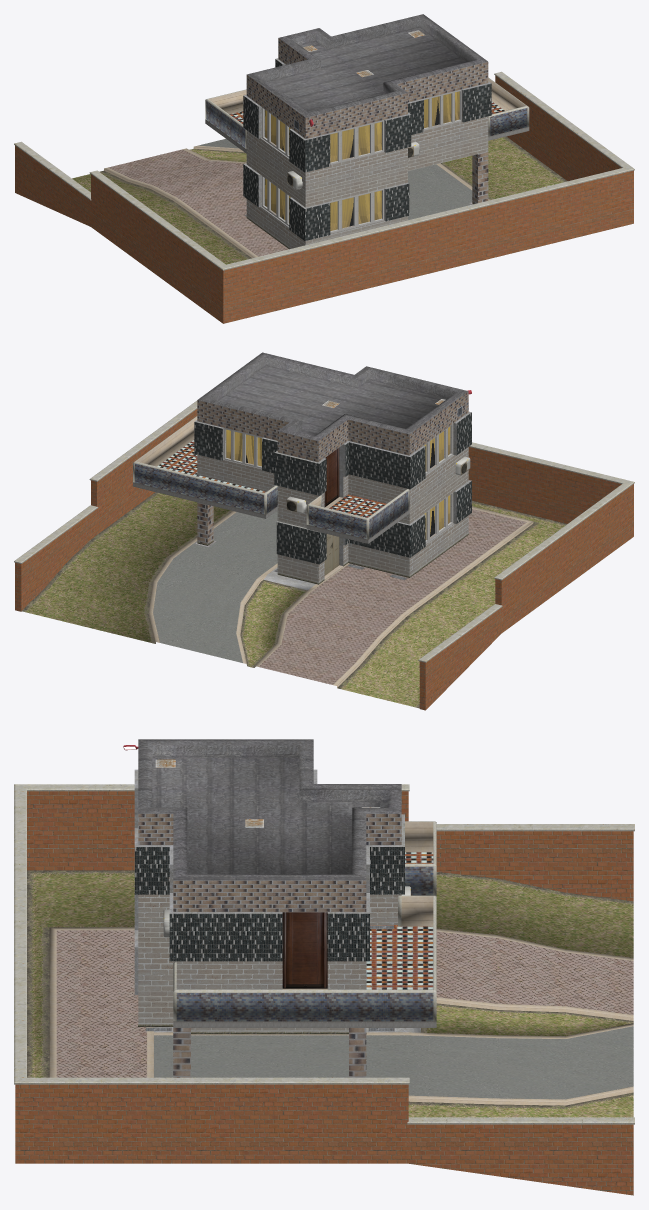
3 views of the same model, one above another, from view 1: azimuth 30°, elevation 25°; view 2: azimuth 150°, elevation 25°; view 3: azimuth 270°, elevation 25° (orthographic). The views are drawn at different scales.
Visible parts, largest first — view 1: LANDEFENCE, OUTSIDE, LAND, ROOF, window, OUTSIDEFENCE, LANDDIRT, INTERIOR, ADDITIONAL2; view 2: LAND, OUTSIDE, LANDEFENCE, ROOF, OUTSIDEFENCE, LANDDIRT, window, INTERIOR, ADDITIONAL2; view 3: LAND, LANDEFENCE, OUTSIDE, ROOF, OUTSIDEFENCE, LANDDIRT, INTERIOR, DIRTBOTTOM.
Part boxes in pixels (bbox=[...]): LANDEFENCE: bbox=[14, 71, 634, 323]; OUTSIDE: bbox=[205, 38, 529, 248]; LAND: bbox=[72, 137, 565, 264]; ROOF: bbox=[247, 14, 487, 117]; window: bbox=[262, 89, 461, 233]; OUTSIDEFENCE: bbox=[205, 77, 529, 148]; LANDDIRT: bbox=[100, 136, 567, 259]; INTERIOR: bbox=[260, 64, 461, 233]; ADDITIONAL2: bbox=[244, 119, 472, 216]; LAND: bbox=[22, 493, 565, 707]; OUTSIDE: bbox=[133, 391, 471, 583]; LANDEFENCE: bbox=[14, 400, 634, 710]; ROOF: bbox=[198, 352, 468, 440]; OUTSIDEFENCE: bbox=[133, 416, 409, 539]; LANDDIRT: bbox=[21, 492, 566, 708]; window: bbox=[224, 424, 453, 542]; INTERIOR: bbox=[223, 423, 454, 579]; ADDITIONAL2: bbox=[195, 406, 470, 580]; LAND: bbox=[27, 870, 633, 1117]; LANDEFENCE: bbox=[14, 784, 634, 1195]; OUTSIDE: bbox=[134, 769, 436, 1077]; ROOF: bbox=[138, 739, 401, 880]; OUTSIDEFENCE: bbox=[173, 821, 436, 1021]; LANDDIRT: bbox=[27, 870, 633, 1108]; INTERIOR: bbox=[282, 912, 327, 989]; DIRTBOTTOM: bbox=[138, 1023, 366, 1034].
Size of the model in its own units: 20.13 by 7.84 by 17.68.
Materials: 37 (32 with a texture image).
